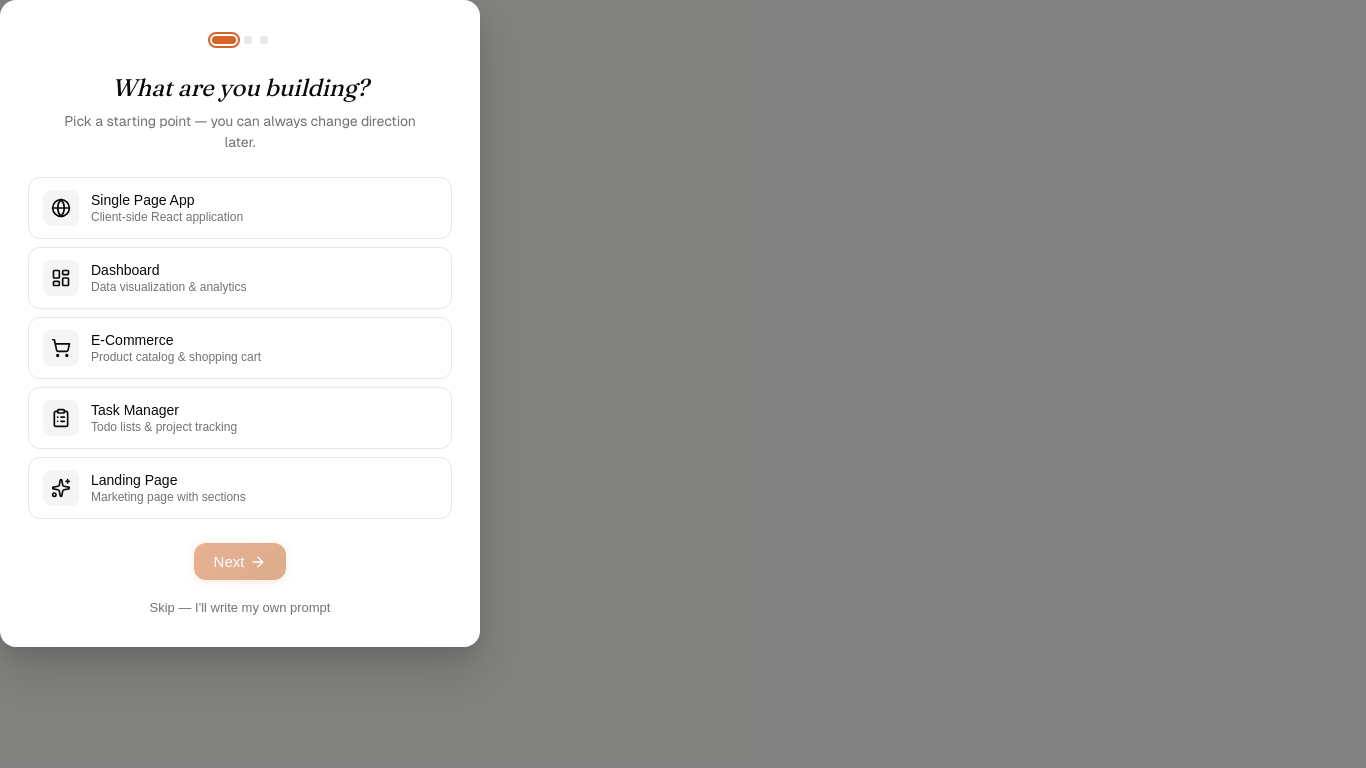
Test: OnboardingOverlay › Step 1 — project type selection › advances to step 2 when Next is clicked with a selection
The width and height of the screenshot is (1366, 768).
Click the text "Dashboard".
click(125, 270)  # box [91, 262, 160, 278]
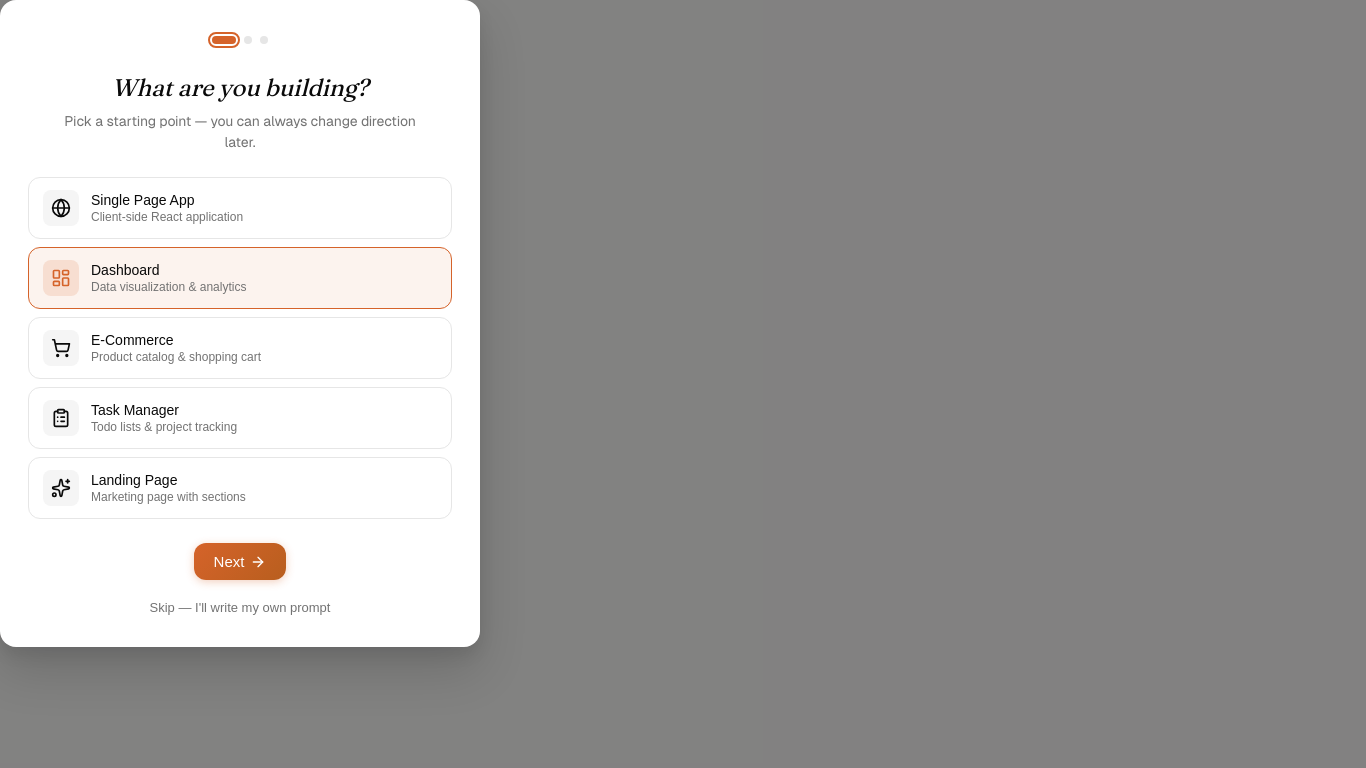
Click the button "Next".
click(240, 562)  # box [194, 543, 286, 580]
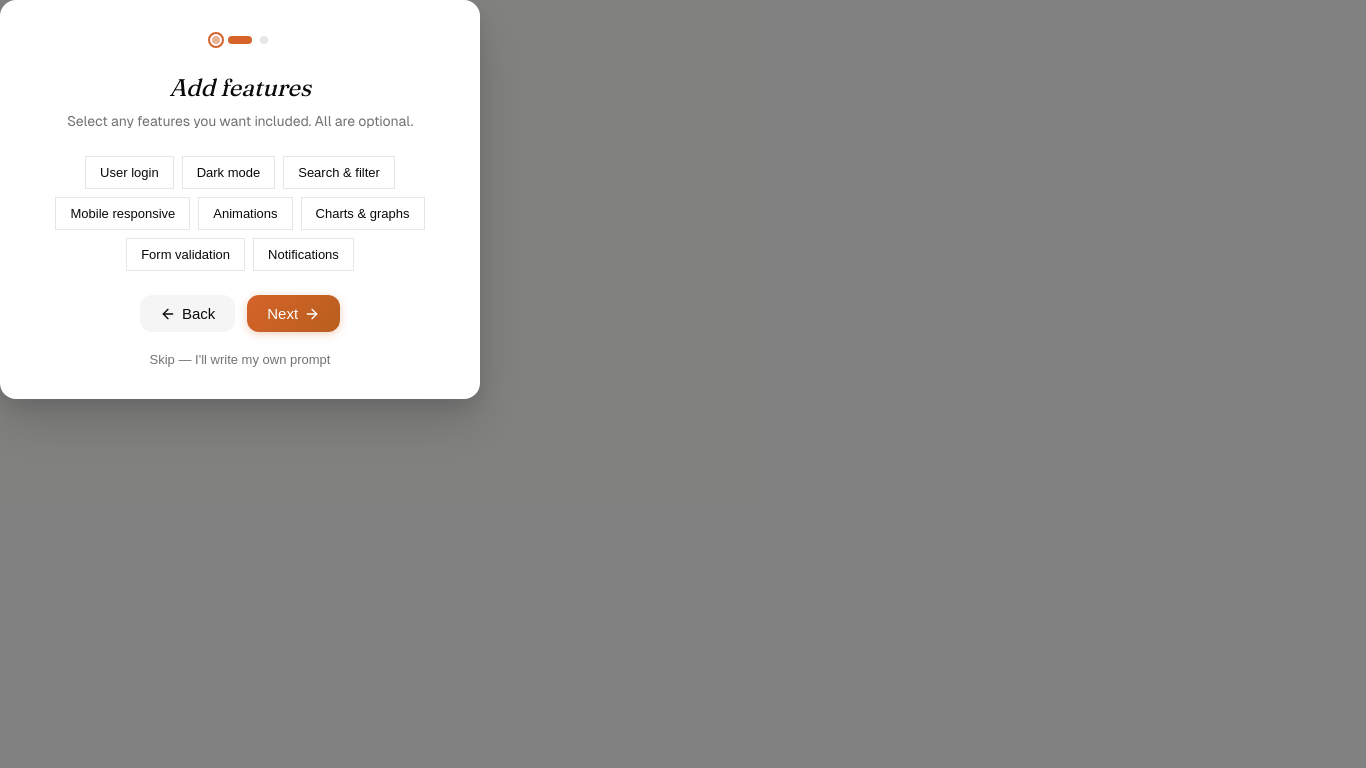
Check: the heading "Add features" is shown, box [169, 72, 311, 103]
